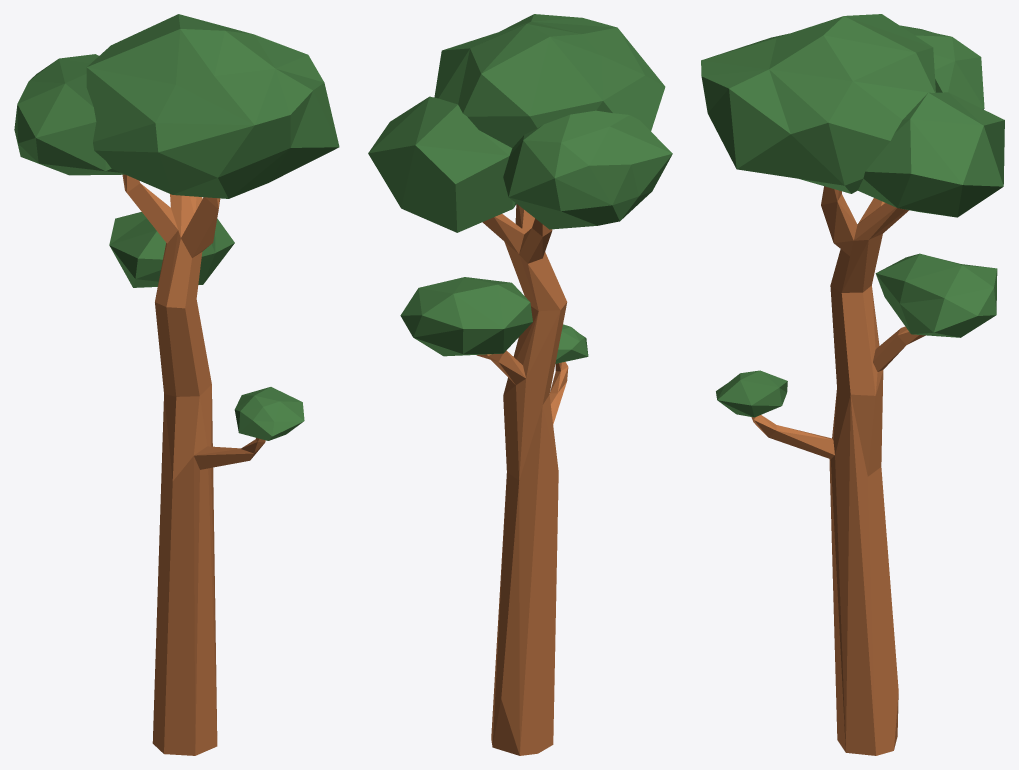
Rendered from tree03.gltf.
3 renders of one model, left to right at view 1: azimuth 30°, elevation 25°; view 2: azimuth 150°, elevation 25°; view 3: azimuth 270°, elevation 25°, orthographic. The views are drawn at different scales.
Parts seen in each view (by area): view 1: Cylinder.001; view 2: Cylinder.001; view 3: Cylinder.001.
Boxes of the visible parts, <box> form: Cylinder.001: <box>14,14,339,755</box>; Cylinder.001: <box>368,14,672,755</box>; Cylinder.001: <box>701,14,1004,755</box>.
Bounding box in the file's own units: 1.59 × 4.13 × 1.58.
Materials: 1 (1 with a texture image).
